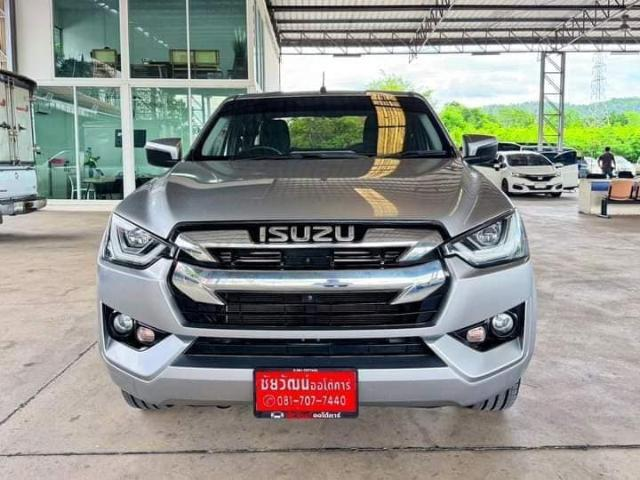pickup-truck: (81, 73, 545, 434)
